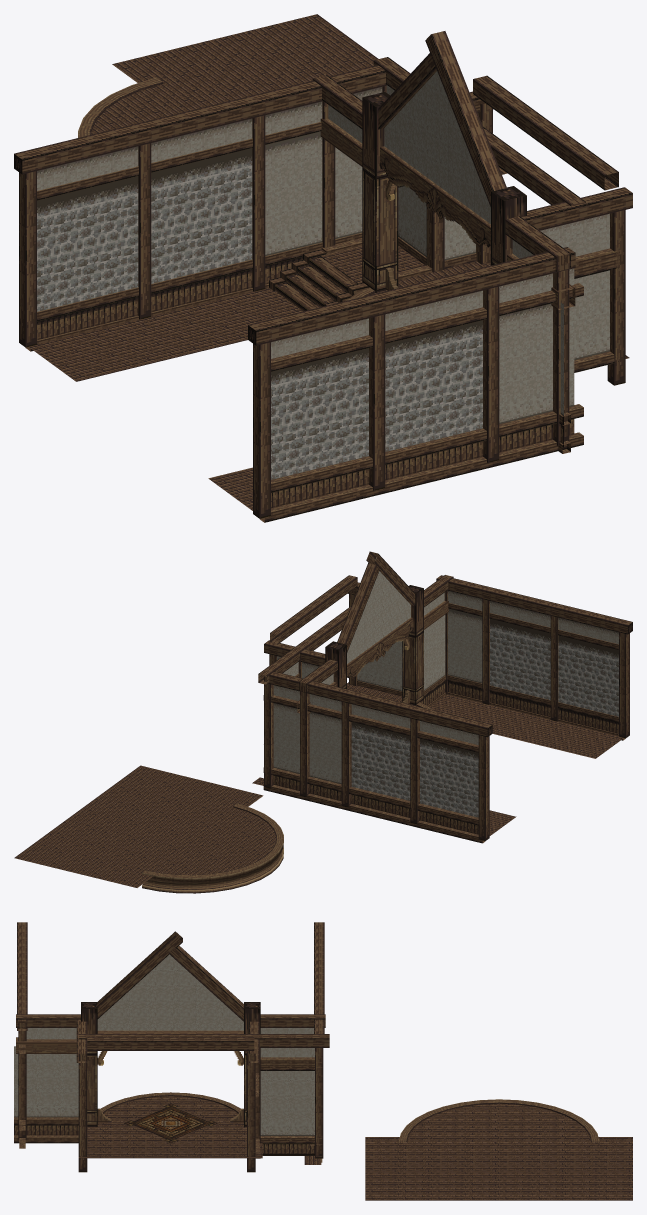
The model's file is ObjMD_Pub_Snow_S.FBX.
3 renders of one model, top to bottom at view 1: azimuth 30°, elevation 25°; view 2: azimuth 150°, elevation 25°; view 3: azimuth 270°, elevation 25°, orthographic. The views are drawn at different scales.
Visible parts, largest first — view 1: ObjMD_Pub_Snow_S, ObjMD_Pub_Stage_A; view 2: ObjMD_Pub_Snow_S, ObjMD_Pub_Stage_A; view 3: ObjMD_Pub_Snow_S, ObjMD_Pub_Stage_A.
Boxes of the visible parts, <box> form: ObjMD_Pub_Snow_S: <box>14,31,632,522</box>; ObjMD_Pub_Stage_A: <box>78,14,507,174</box>; ObjMD_Pub_Snow_S: <box>252,551,632,843</box>; ObjMD_Pub_Stage_A: <box>14,765,283,893</box>; ObjMD_Pub_Snow_S: <box>14,922,329,1172</box>; ObjMD_Pub_Stage_A: <box>365,1099,632,1200</box>.
Bounding box in the file's own units: 2394 × 1372 × 3700.
